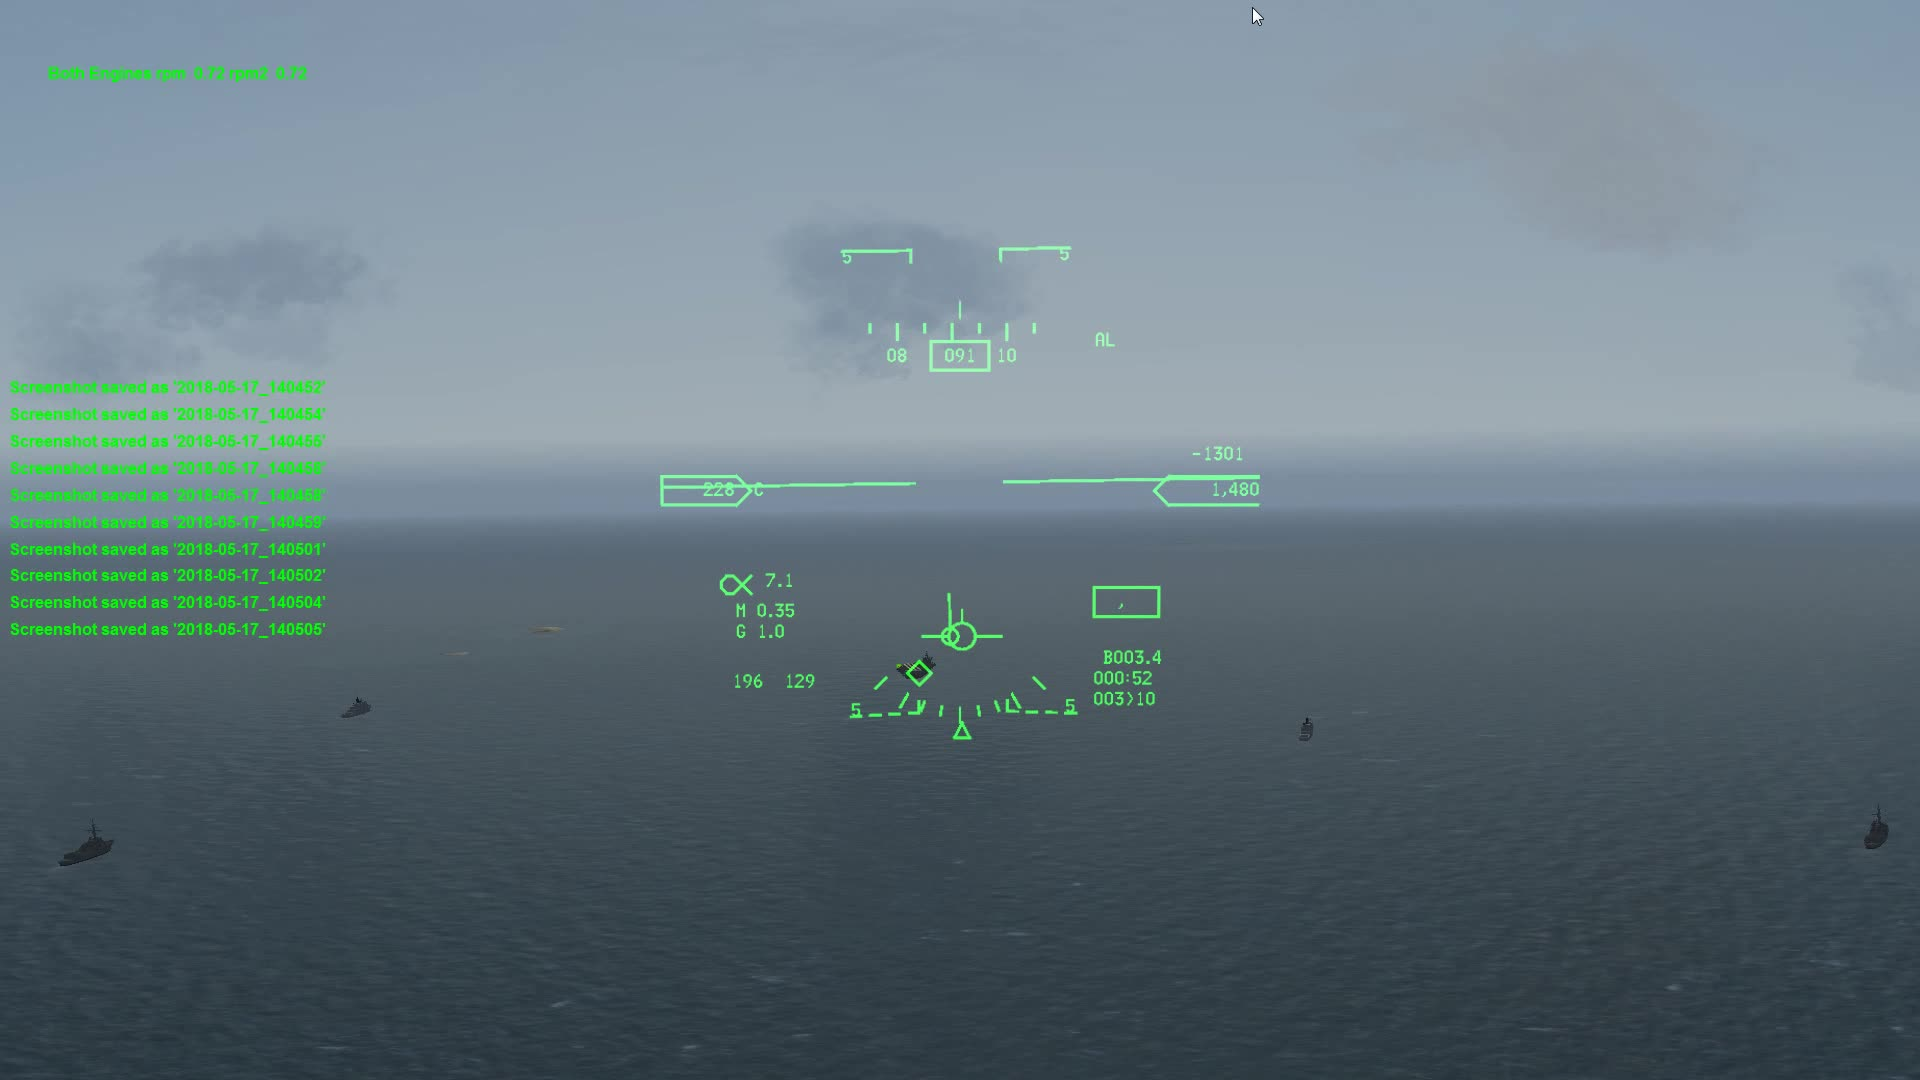speed vector: (916, 595, 1010, 655)
